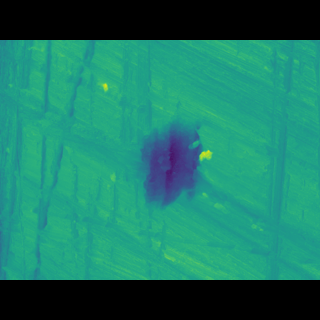Loch: (1, 188, 320, 248), (135, 123, 217, 201), (264, 69, 298, 250)
